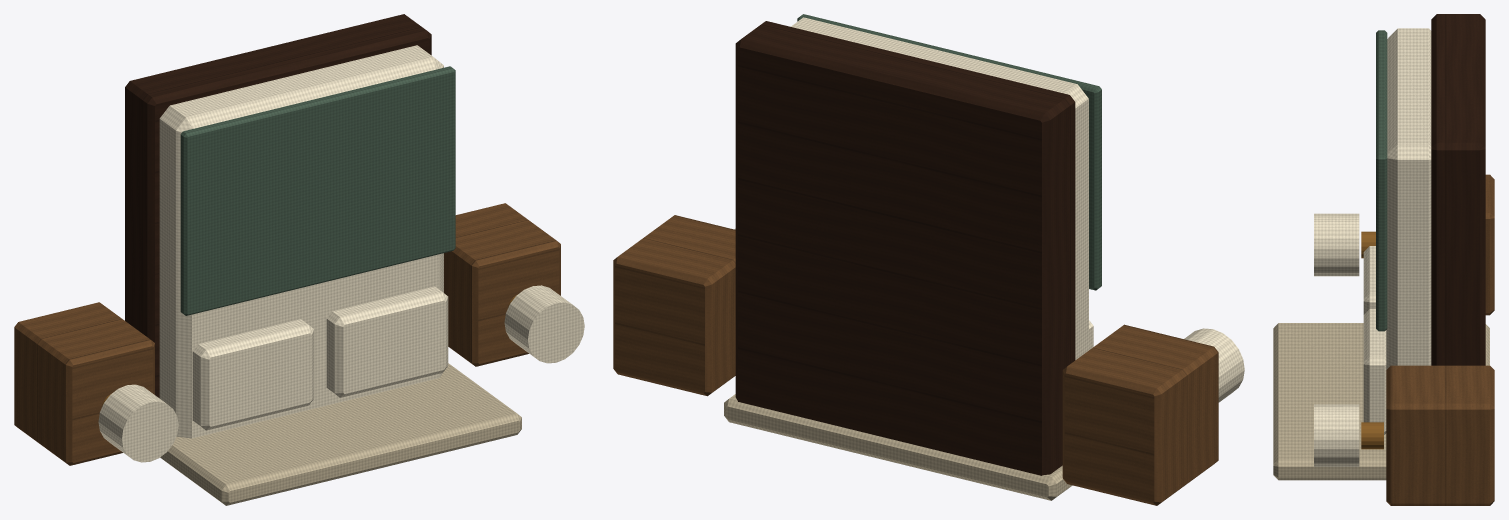
File: bed_ground.obj
The picture shows the model from 3 angles, left to right: view 1: azimuth 30°, elevation 25°; view 2: azimuth 150°, elevation 25°; view 3: azimuth 270°, elevation 25°; orthographic projection. The views are drawn at different scales.
Visible parts, largest first — view 1: bed_ground_linen, bed_ground_sage, bed_ground_oak, bed_ground_fabric, bed_ground_walnut; view 2: bed_ground_walnut, bed_ground_oak, bed_ground_linen, bed_ground_fabric, bed_ground_sage; view 3: bed_ground_linen, bed_ground_walnut, bed_ground_oak, bed_ground_fabric, bed_ground_sage, bed_ground_brass.
Part boxes in pixels (bbox=[...]): bed_ground_linen: bbox=[98, 45, 584, 462]; bed_ground_sage: bbox=[180, 66, 455, 315]; bed_ground_oak: bbox=[14, 203, 560, 465]; bed_ground_fabric: bbox=[160, 363, 521, 505]; bed_ground_walnut: bbox=[125, 14, 431, 398]; bed_ground_walnut: bbox=[735, 21, 1075, 475]; bed_ground_oak: bbox=[613, 215, 1218, 505]; bed_ground_linen: bbox=[734, 17, 1244, 402]; bed_ground_fabric: bbox=[724, 394, 1072, 500]; bed_ground_sage: bbox=[797, 14, 1101, 290]; bed_ground_linen: bbox=[1314, 28, 1431, 466]; bed_ground_walnut: bbox=[1431, 14, 1485, 365]; bed_ground_oak: bbox=[1386, 174, 1494, 505]; bed_ground_fabric: bbox=[1273, 323, 1489, 480]; bed_ground_sage: bbox=[1376, 30, 1387, 331]; bed_ground_brass: bbox=[1361, 231, 1383, 449].
Bounding box in the file's own units: 122 × 82 × 49.
Materials: 7 (7 with a texture image).
